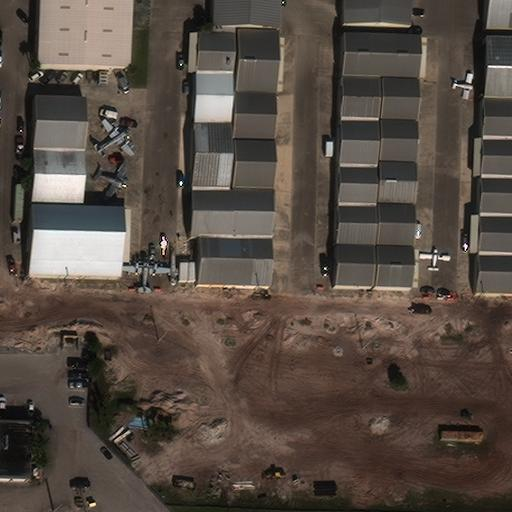Medium Civil Transport: (116, 254, 170, 293)
Small Civil Transport: (96, 118, 135, 153), (96, 162, 126, 202), (420, 247, 450, 272), (453, 74, 474, 99)
